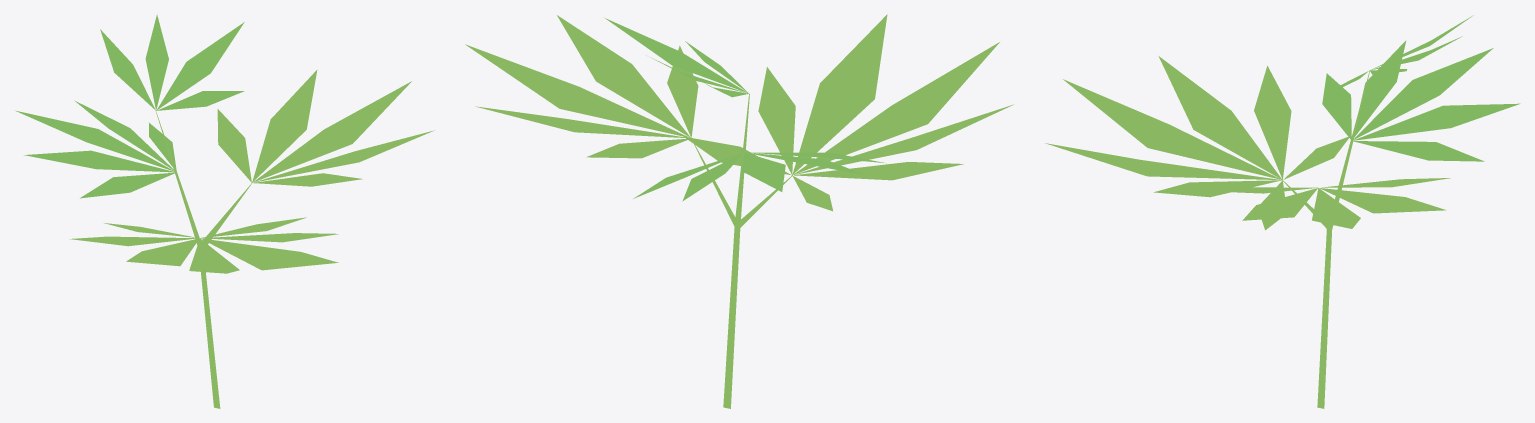
The model's file is Plant_i_OneS_02.fbx.
3 views of the same model, side by side, from view 1: azimuth 30°, elevation 25°; view 2: azimuth 150°, elevation 25°; view 3: azimuth 270°, elevation 25° (orthographic). The views are drawn at different scales.
Visible parts, largest first — view 1: Plant_i_OneS_02; view 2: Plant_i_OneS_02; view 3: Plant_i_OneS_02.
Boxes of the visible parts, <box> form: Plant_i_OneS_02: <box>15,14,434,408</box>; Plant_i_OneS_02: <box>465,14,1013,408</box>; Plant_i_OneS_02: <box>1045,15,1520,408</box>.
Size of the model in its own units: 0.8271 by 0.7106 by 0.82.
